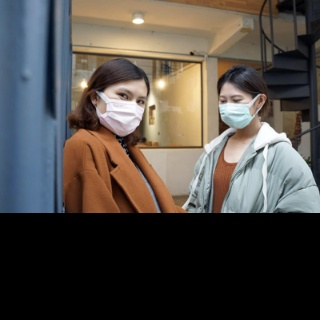with_mask: (99, 88, 147, 138), (217, 93, 256, 130)
